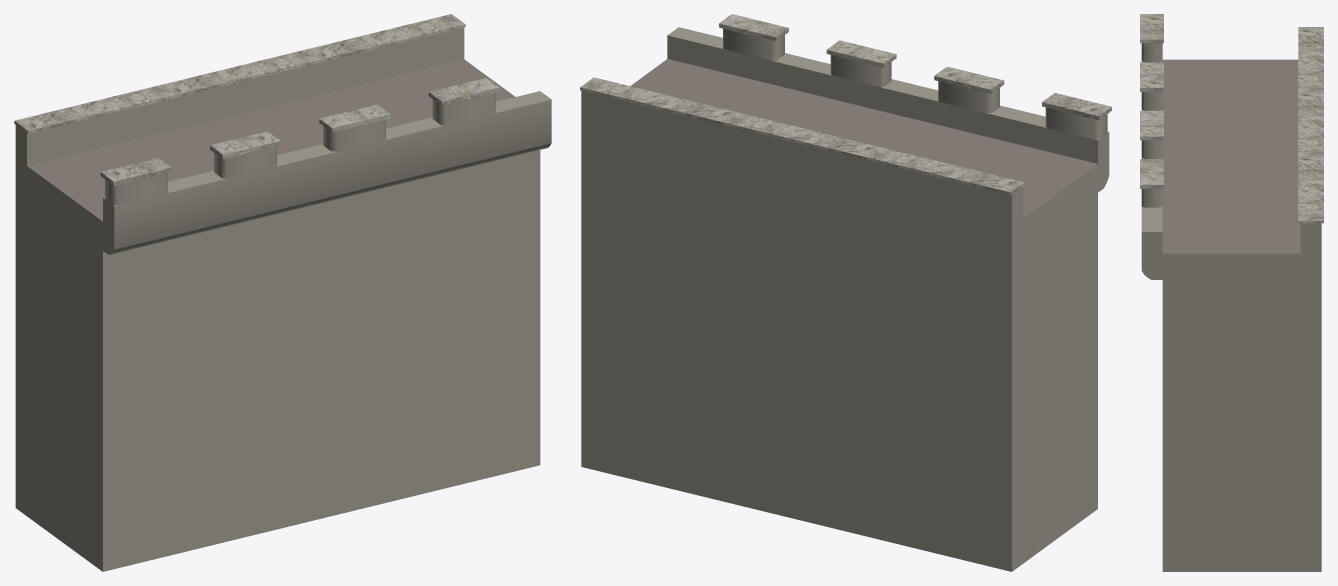
File: Wall.fbx
3 views of the same model, side by side, from view 1: azimuth 30°, elevation 25°; view 2: azimuth 150°, elevation 25°; view 3: azimuth 270°, elevation 25° (orthographic). The views are drawn at different scales.
Visible parts, largest first — view 1: Model; view 2: Model; view 3: Model.
Part boxes in pixels (x1,y1,x2,y2): Model: (14, 14, 551, 571); Model: (580, 14, 1111, 571); Model: (1140, 14, 1323, 571).
Size of the model in its own units: 24.25 by 21.11 by 9.68.
